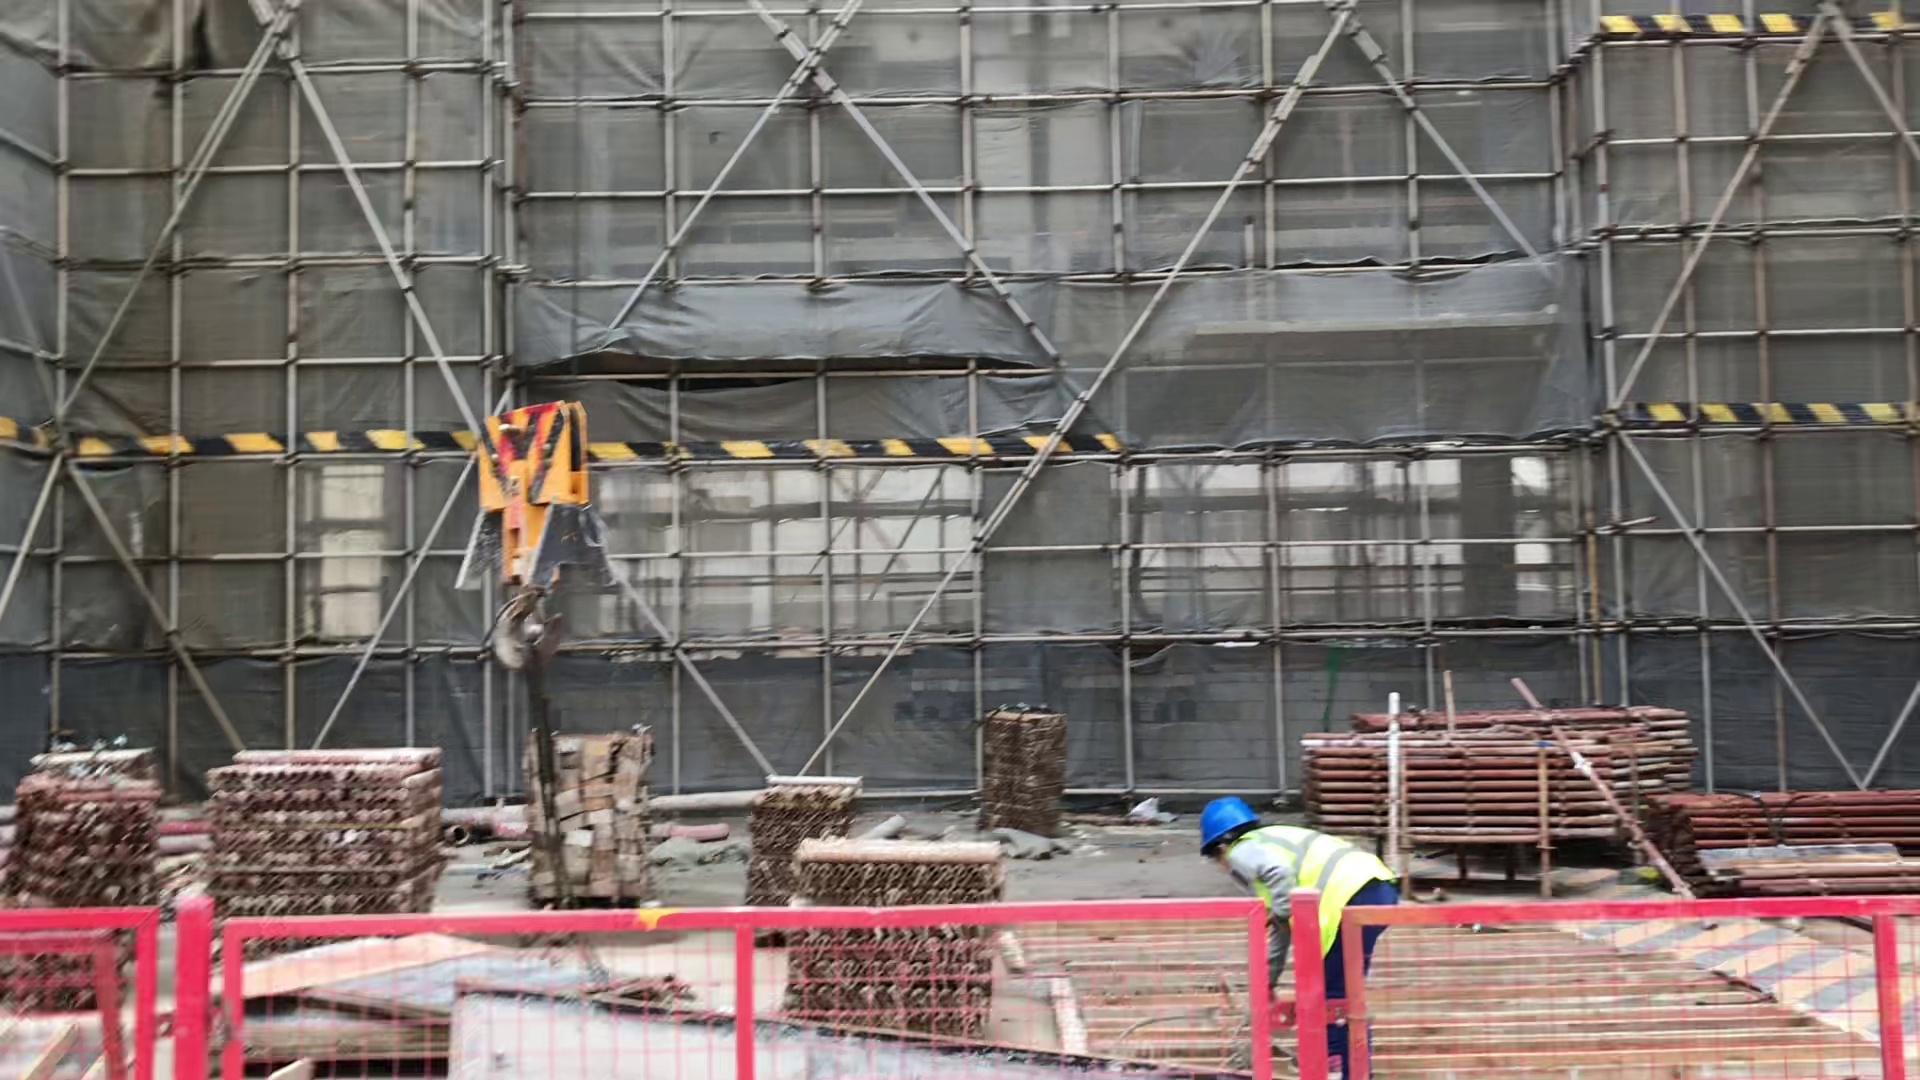fence: (46, 892, 1920, 1080)
helmet: (1189, 792, 1258, 849)
hook: (471, 395, 590, 602)
person: (1193, 788, 1398, 1080)
scaffold: (1315, 685, 1665, 837), (173, 743, 434, 894), (790, 843, 1001, 1027), (1678, 775, 1920, 873), (24, 774, 134, 961), (758, 770, 840, 924)
vest: (1239, 832, 1388, 923)
